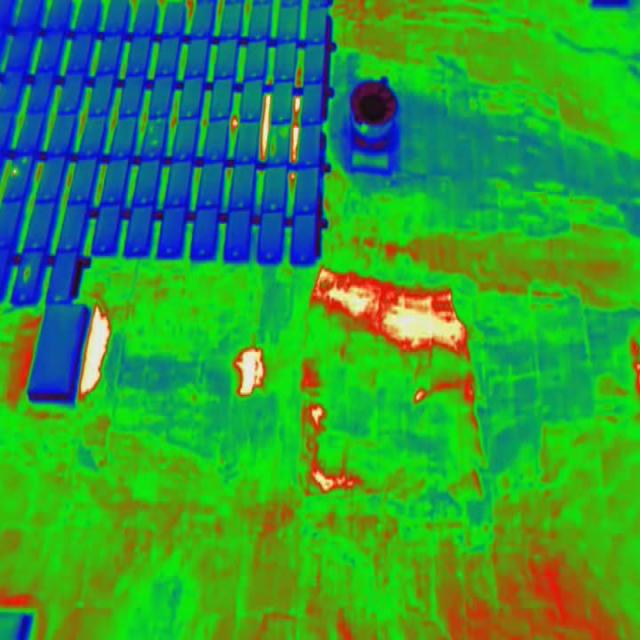Orange-Spots: (23, 267, 30, 281), (271, 138, 275, 156), (280, 127, 286, 135), (151, 139, 157, 147), (150, 125, 155, 134), (13, 167, 18, 174), (22, 158, 27, 164)
